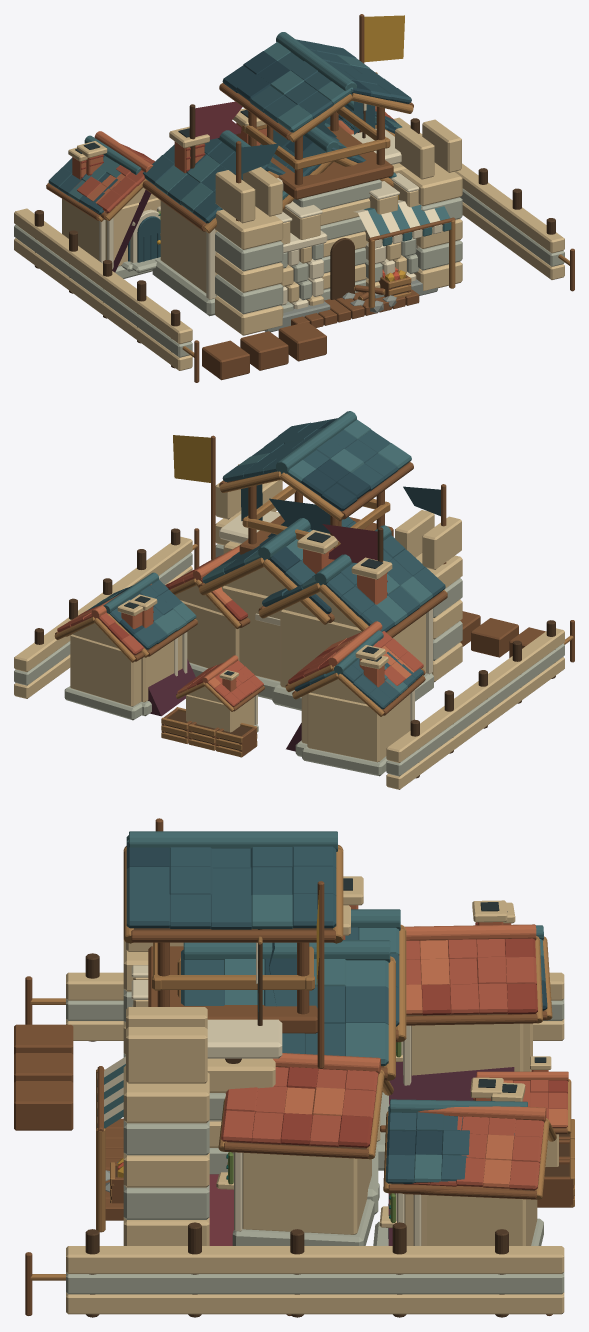
File: frontier-kit.glb
3 views of the same model, one above another, from view 1: azimuth 30°, elevation 25°; view 2: azimuth 150°, elevation 25°; view 3: azimuth 270°, elevation 25° (orthographic). The views are drawn at different scales.
Parts seen in each view (by area): view 1: neighbor_fort_mesh, neighbor_harbor_mesh, tower_mesh, neighbor_camp_mesh, gate_mesh; view 2: neighbor_fort_mesh, neighbor_harbor_mesh, tower_mesh, neighbor_camp_mesh, outpost_mesh, gate_mesh; view 3: neighbor_fort_mesh, neighbor_harbor_mesh, tower_mesh, neighbor_camp_mesh, gate_mesh.
Part boxes in pixels (box(x1,y1,x2,y2)): neighbor_fort_mesh: box(14, 14, 564, 370); neighbor_harbor_mesh: box(46, 106, 574, 382); tower_mesh: box(219, 32, 413, 300); neighbor_camp_mesh: box(34, 101, 555, 368); gate_mesh: box(277, 128, 406, 199); neighbor_fort_mesh: box(14, 435, 564, 789); neighbor_harbor_mesh: box(54, 484, 574, 776); tower_mesh: box(219, 411, 413, 554); neighbor_camp_mesh: box(34, 524, 555, 778); outpost_mesh: box(268, 498, 341, 537); gate_mesh: box(219, 511, 280, 553); neighbor_fort_mesh: box(66, 881, 571, 1314); neighbor_harbor_mesh: box(14, 818, 556, 1315); tower_mesh: box(123, 831, 343, 1033); neighbor_camp_mesh: box(85, 953, 574, 1317); gate_mesh: box(207, 1019, 282, 1174).
Bounding box in the file's own units: 4.53 × 2.62 × 3.78.
